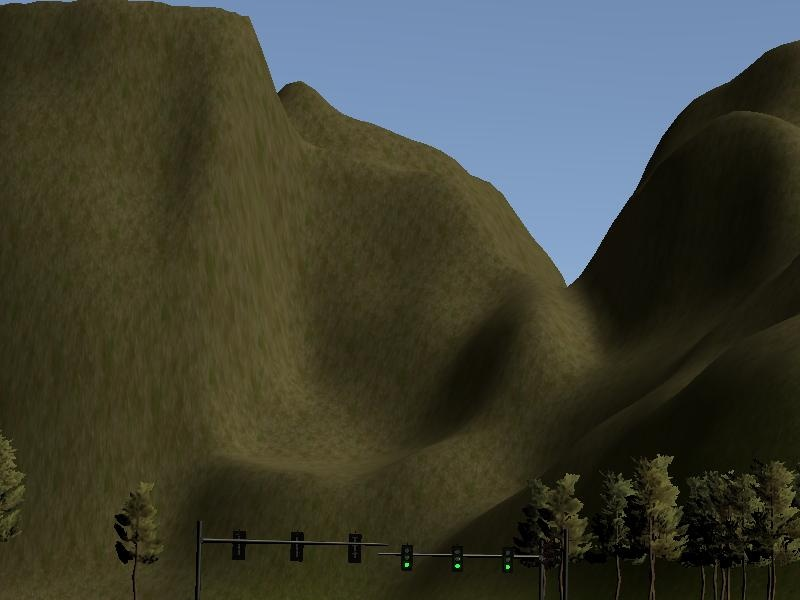green: (449, 544, 464, 576), (501, 547, 515, 576), (399, 543, 412, 571)
